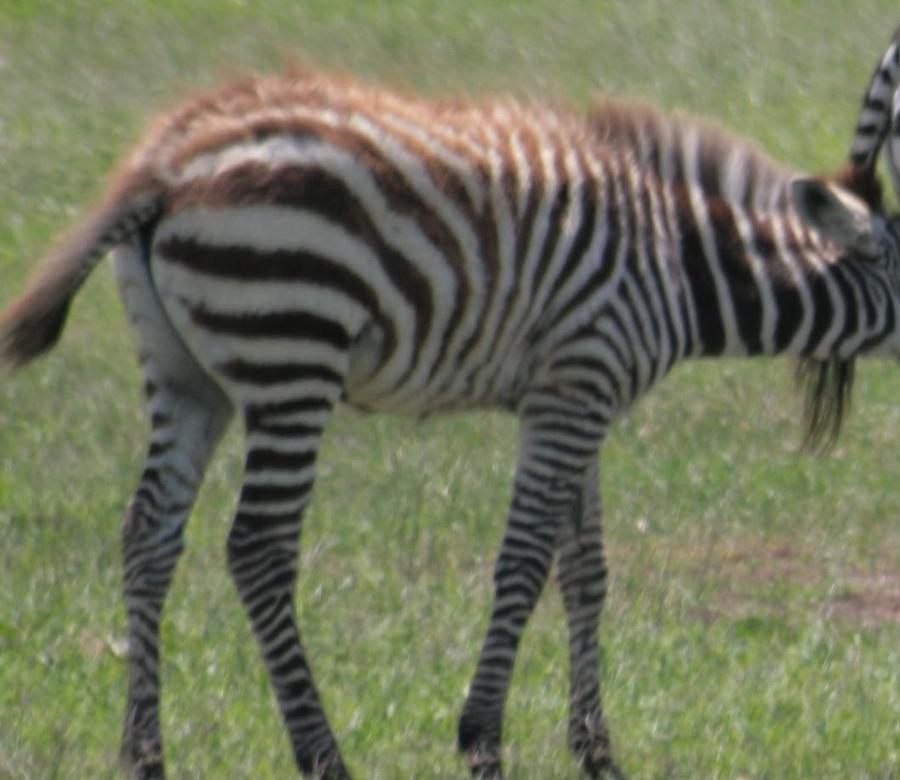zebra_plains: (179, 59, 732, 503)
